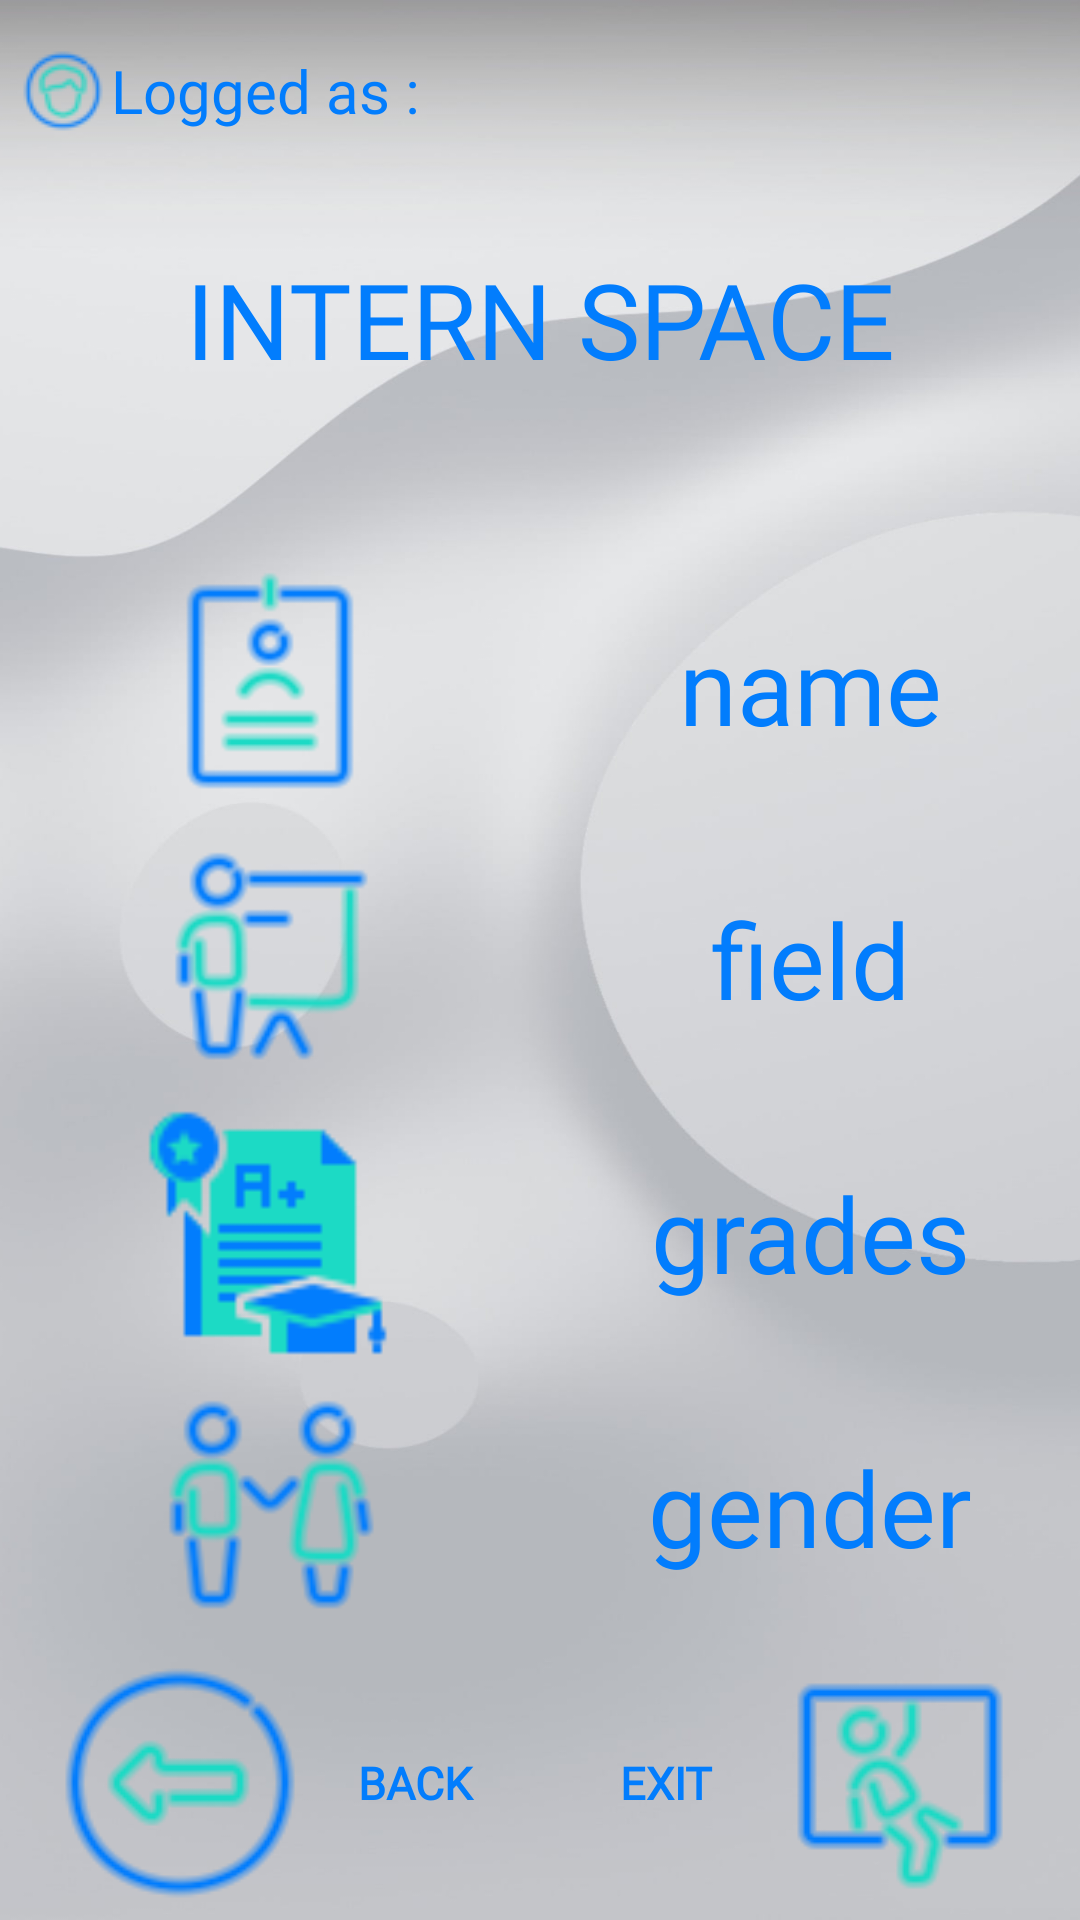

Icons on this 1080px x 1920px Android screen, each with the point to tap as [x,y]:
gradeicon: [285,1232]
